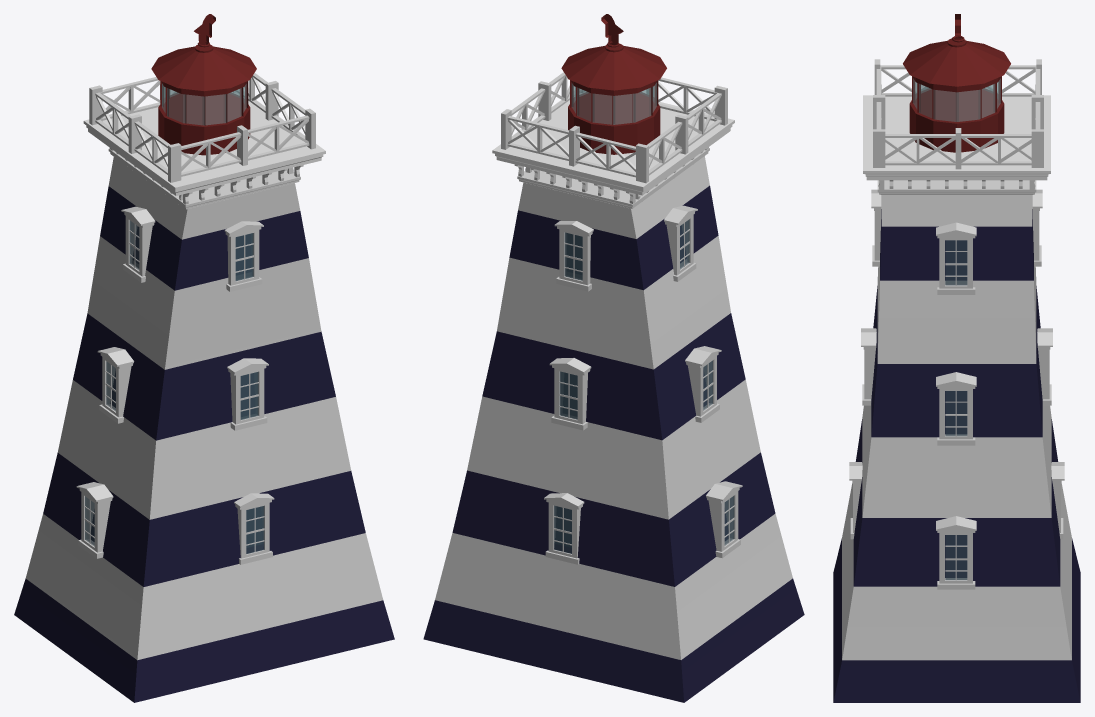
Rendered from West Point Lighthouse.fbx.
3 renders of one model, left to right at view 1: azimuth 30°, elevation 25°; view 2: azimuth 150°, elevation 25°; view 3: azimuth 270°, elevation 25°, orthographic. The views are drawn at different scales.
Visible parts, largest first — view 1: West Point Lighthouse; view 2: West Point Lighthouse; view 3: West Point Lighthouse.
Boxes of the visible parts, x1=… form: West Point Lighthouse: x1=14, y1=14, x2=394, y2=702; West Point Lighthouse: x1=423, y1=14, x2=804, y2=702; West Point Lighthouse: x1=833, y1=14, x2=1080, y2=702.
Bounding box in the file's own units: 3.91 × 8.75 × 3.13.
